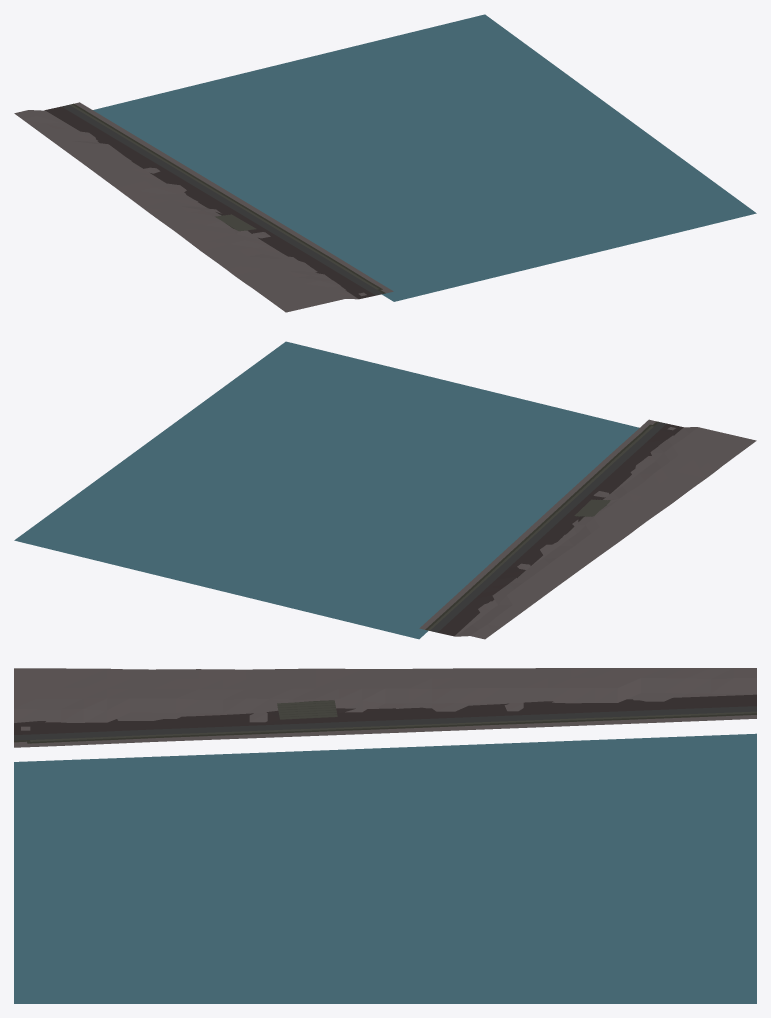
3 renders of one model, top to bottom at view 1: azimuth 30°, elevation 25°; view 2: azimuth 150°, elevation 25°; view 3: azimuth 270°, elevation 25°, orthographic. The views are drawn at different scales.
Visible parts, largest first — view 1: c_m13_p09; view 2: c_m13_p09; view 3: c_m13_p09.
Boxes of the visible parts, <box> form: c_m13_p09: <box>14,14,756,312</box>; c_m13_p09: <box>14,341,756,639</box>; c_m13_p09: <box>14,668,756,1003</box>.
Bounding box in the file's own units: 128 × 4.16 × 128.
